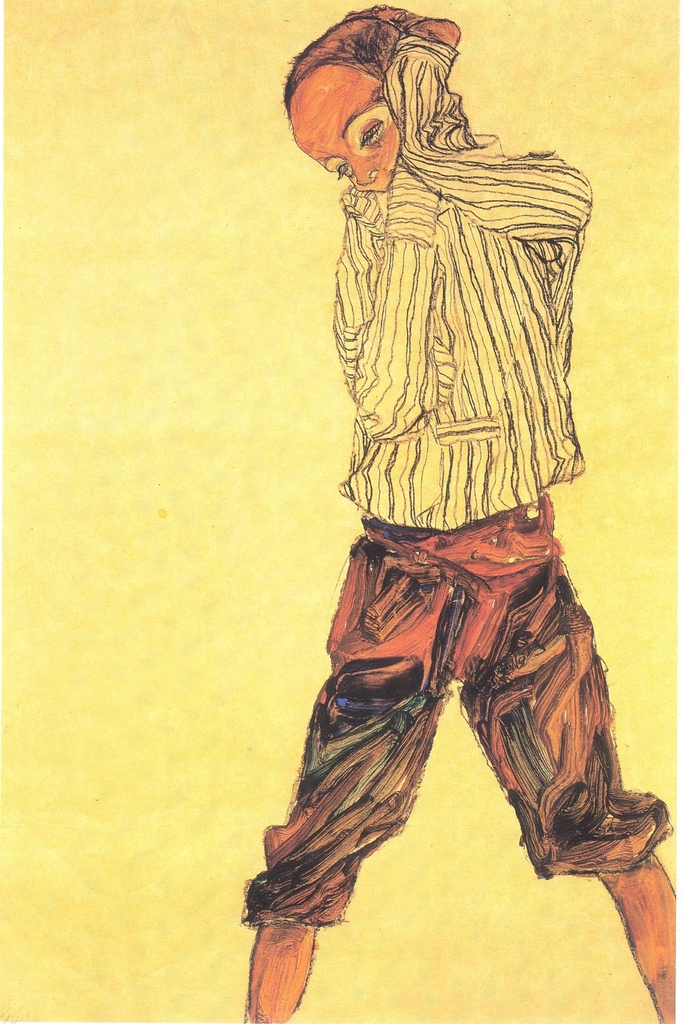Person: (239, 3, 675, 1024)
